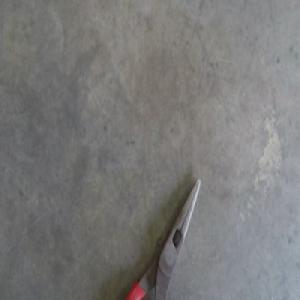Pliers: (127, 176, 200, 299)
